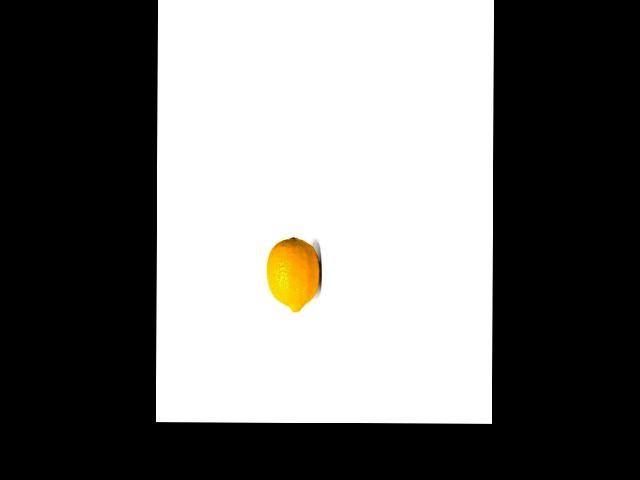lemon: (268, 233, 320, 314)
